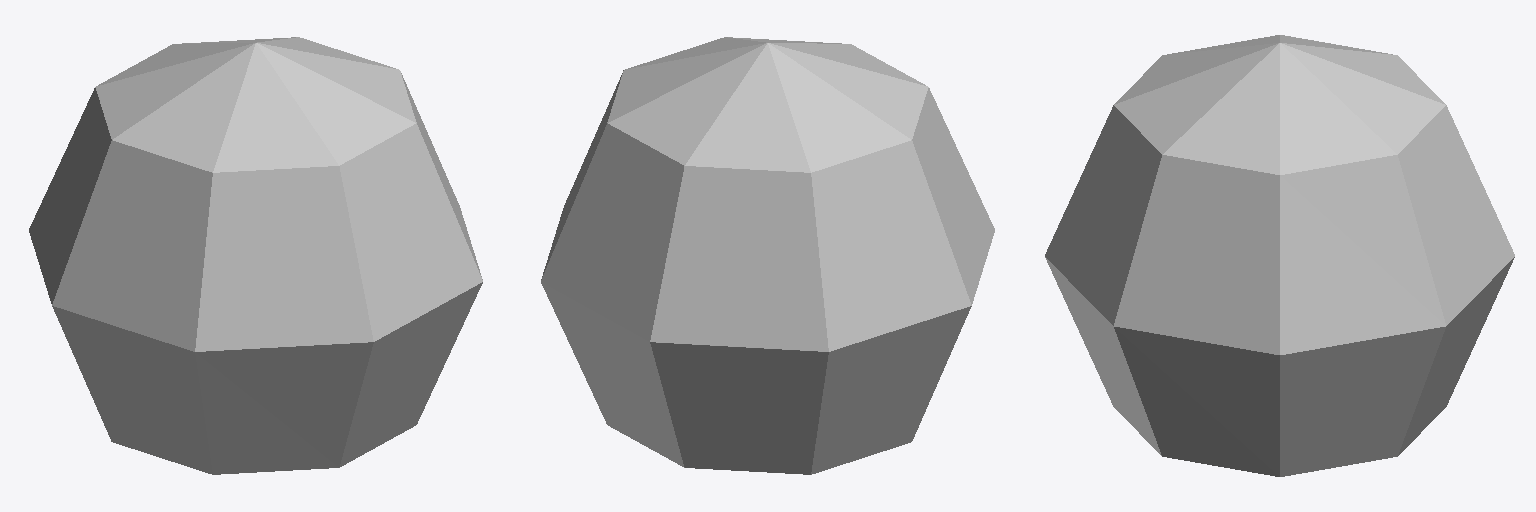
Rendered from fireBall.obj.
The picture shows the model from 3 angles: view 1: azimuth 30°, elevation 25°; view 2: azimuth 150°, elevation 25°; view 3: azimuth 270°, elevation 25°; orthographic projection.
Parts seen in each view (by area): view 1: Sphere002; view 2: Sphere002; view 3: Sphere002.
Part boxes in pixels (bbox=[...]): Sphere002: bbox=[29, 37, 482, 474]; Sphere002: bbox=[541, 37, 994, 474]; Sphere002: bbox=[1045, 35, 1514, 476].
Size of the model in its own units: 0.1323 by 0.1322 by 0.1323.